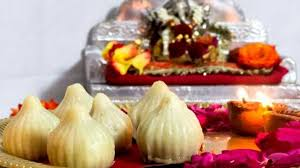modak: (135, 94, 208, 164), (54, 109, 117, 168), (8, 92, 63, 157)
